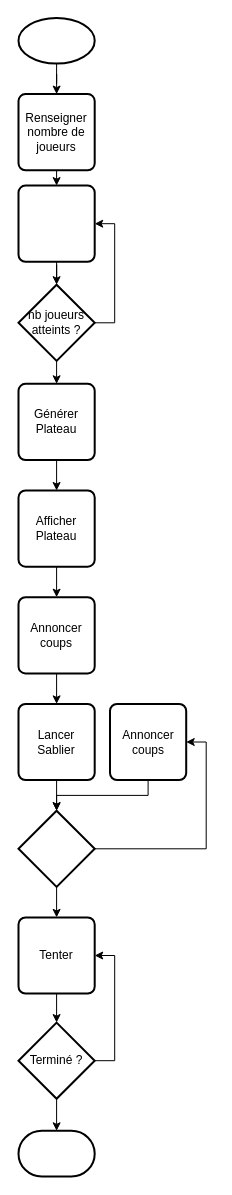
The diagram is 232 pixels wide and 1195 high, and some of its shapes have lost their labels. The shapes that lost their labels are listed below. From the top down, each one's centre as x and y in pixels, then its label:
At point 56,40: "Début".
At point 56,223: "Créer Joueurs".
At point 56,848: "Temps terminé ?".
At point 56,1153: "Fin".
